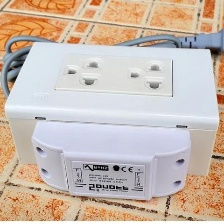three_eye_plug: (2, 38, 222, 194)
